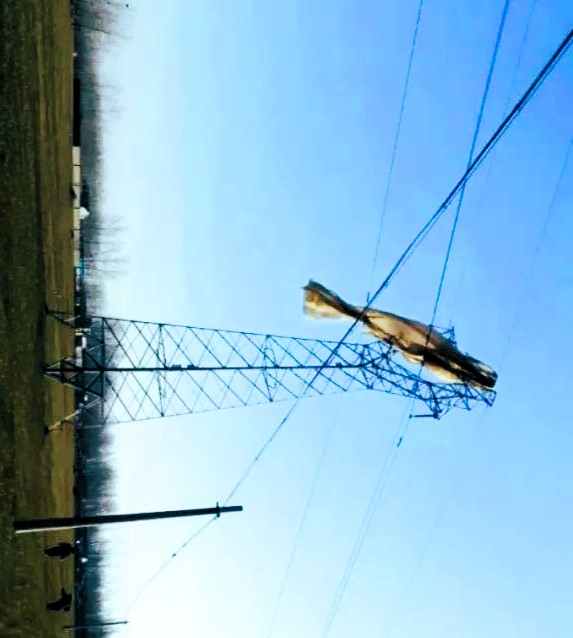wire foreign body: (298, 275, 498, 388)
